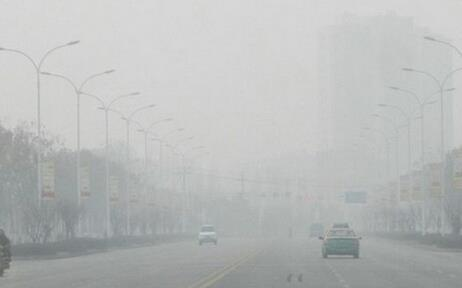car: (318, 221, 363, 258), (197, 223, 218, 246), (308, 221, 323, 239)
